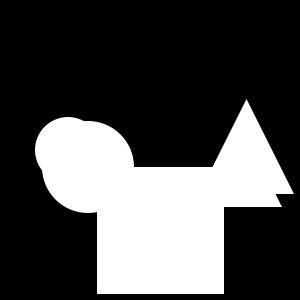circle: (97, 167, 224, 294)
rectangle: (42, 121, 134, 213), (35, 117, 101, 183)
triangle: (199, 99, 294, 194), (206, 131, 282, 207)
